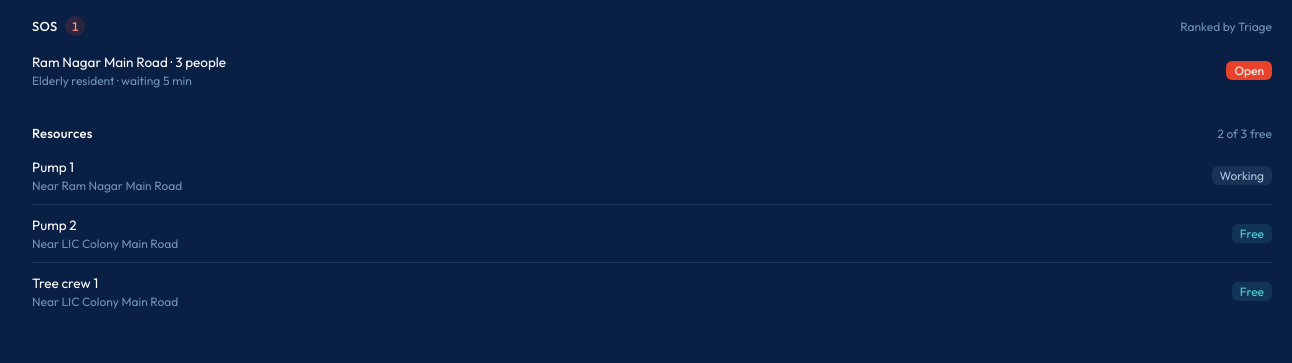
Test: clicking a resource inspects it
The width and height of the screenshot is (1292, 363).
Click the button "Pump 2 Near LIC Colony Main Road Free" at coordinates (54, 225), box [32,205,1272,263]
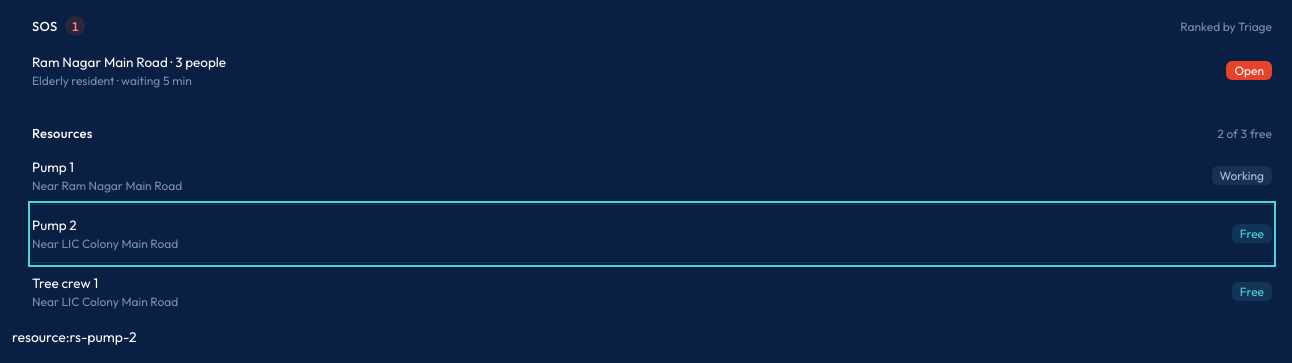
Expected: the text with test id "probe" reads "resource:rs-pump-2", [12,328,137,346]
